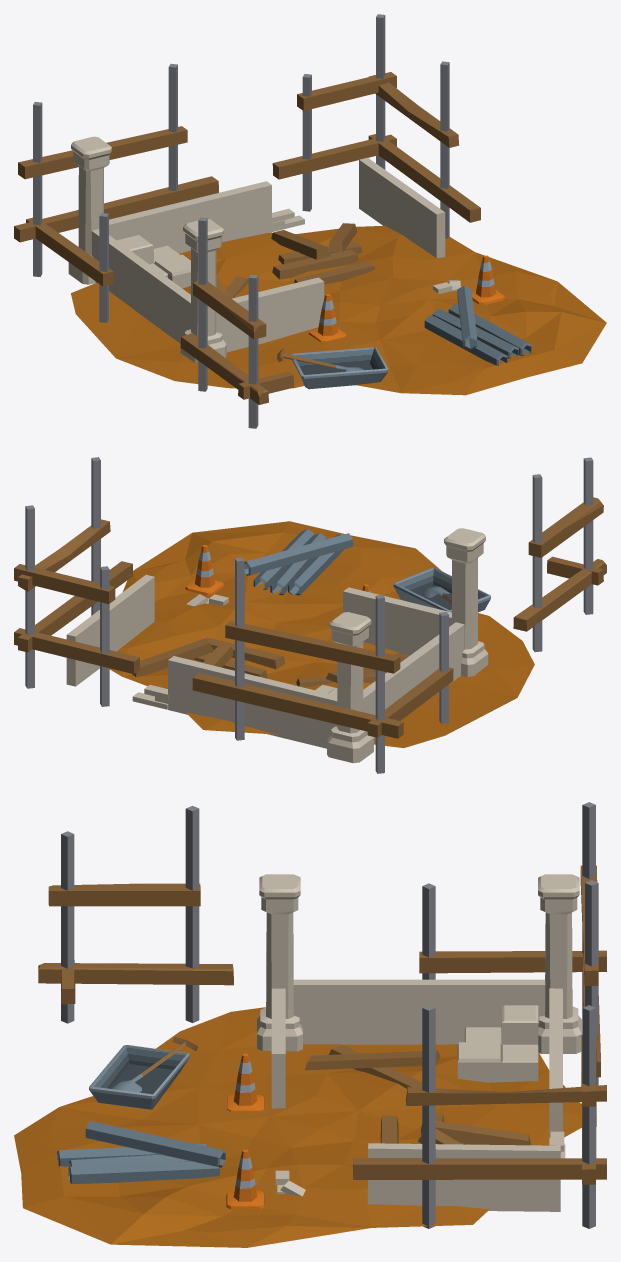
Rendered from Build_Foundation_03.FBX.
3 views of the same model, one above another, from view 1: azimuth 30°, elevation 25°; view 2: azimuth 150°, elevation 25°; view 3: azimuth 270°, elevation 25° (orthographic). The views are drawn at different scales.
Parts seen in each view (by area): view 1: Build_Foundation_03_part_04, Build_Foundation_03_part_01, Build_Foundation_03_part_02, Build_Foundation_03_part_03; view 2: Build_Foundation_03_part_01, Build_Foundation_03_part_04, Build_Foundation_03_part_02, Build_Foundation_03_part_03; view 3: Build_Foundation_03_part_04, Build_Foundation_03_part_01, Build_Foundation_03_part_02, Build_Foundation_03_part_03.
Part boxes in pixels (bbox=[...]): Build_Foundation_03_part_04: bbox=[71, 225, 606, 395]; Build_Foundation_03_part_01: bbox=[14, 14, 480, 428]; Build_Foundation_03_part_02: bbox=[68, 136, 461, 362]; Build_Foundation_03_part_03: bbox=[216, 157, 531, 389]; Build_Foundation_03_part_01: bbox=[14, 457, 606, 773]; Build_Foundation_03_part_04: bbox=[109, 521, 534, 747]; Build_Foundation_03_part_02: bbox=[132, 528, 488, 763]; Build_Foundation_03_part_03: bbox=[66, 529, 490, 687]; Build_Foundation_03_part_04: bbox=[14, 1007, 581, 1247]; Build_Foundation_03_part_01: bbox=[38, 802, 606, 1228]; Build_Foundation_03_part_02: bbox=[257, 874, 581, 1196]; Build_Foundation_03_part_03: bbox=[57, 1036, 560, 1211].
Bounding box in the file's own units: 843 × 346 × 850.
